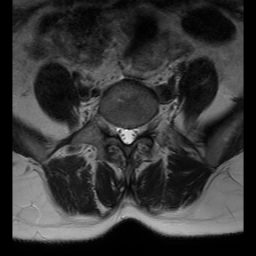CCS_stenosis: (124, 120, 130, 152)
LFS_normal: (138, 117, 145, 144)
LLS_normal: (130, 120, 138, 146)
RFS_normal: (107, 115, 116, 141)
RLS_normal: (116, 118, 124, 146)
